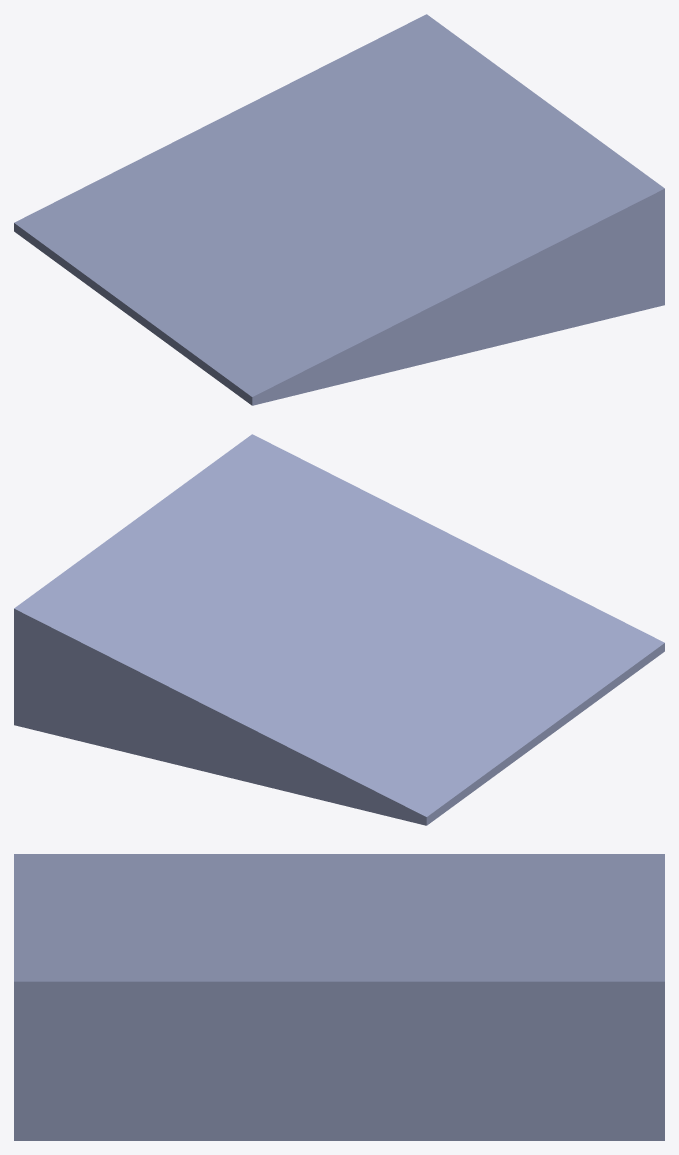
Rendered from tile-slant.glb.
3 renders of one model, top to bottom at view 1: azimuth 30°, elevation 25°; view 2: azimuth 150°, elevation 25°; view 3: azimuth 270°, elevation 25°, orthographic. The views are drawn at different scales.
Visible parts, largest first — view 1: tile-slant; view 2: tile-slant; view 3: tile-slant.
Part boxes in pixels (x1,y1,x2,y2): tile-slant: (14,14,664,405); tile-slant: (14,434,664,825); tile-slant: (14,854,664,1140).
Bounding box in the file's own units: 10 × 2.7 × 10.
1 material, 1 textured.
